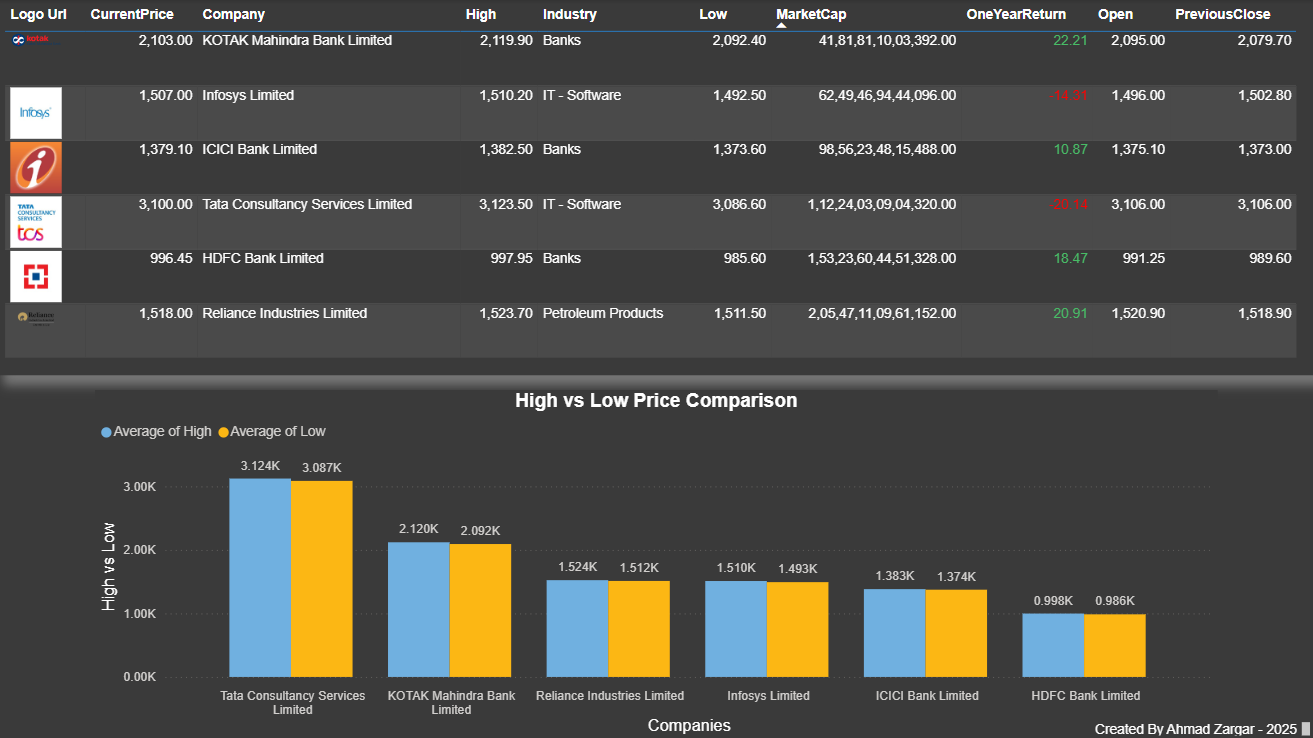

The page's visual inventory and layout, read from the dashboard file:
{"tool":"powerbi","page":{"name":"Page 2","canvas":[1280,720],"ordinal":1},"visuals":[{"type":"tableEx","fields":{"Values":["Sheet1.Logo Url","Sheet1.CurrentPrice","Sheet1.Company","Sheet1.High","Sheet1.Industry","Sheet1.Low","Sheet1.MarketCap","Sheet1.OneYearReturn","Sheet1.Open","Sheet1.PreviousClose"]},"box":[0,0,1280,364.7],"z":0},{"type":"clusteredColumnChart","title":"High vs Low Price Comparison","fields":{"Category":["Sheet1.Company"],"Y":["Avg(Sheet1.High)","Avg(Sheet1.Low)"]},"box":[93.4,379.3,1092.3,340.4],"z":1000},{"type":"textbox","box":[1061,697,219,23],"z":1001}]}

Visuals, with their boxes in screenshot pixels (x1, y1, x2, y2), scaled from the page's 1280x720 canvas onto the 1313x738 screenshot:
tableEx - Sheet1.Logo Url x Sheet1.CurrentPrice: bbox=[0, 0, 1312, 374]
"High vs Low Price Comparison" clusteredColumnChart: bbox=[96, 389, 1216, 737]
textbox: bbox=[1088, 714, 1312, 737]
